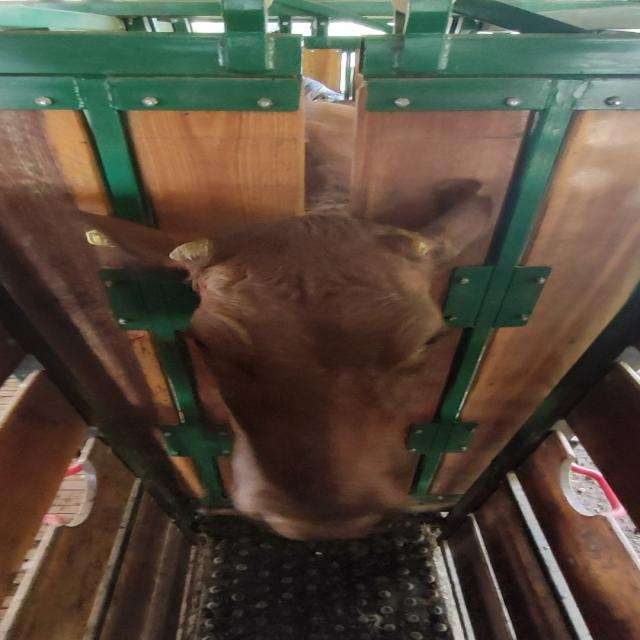cowFace: (192, 218, 448, 542)
